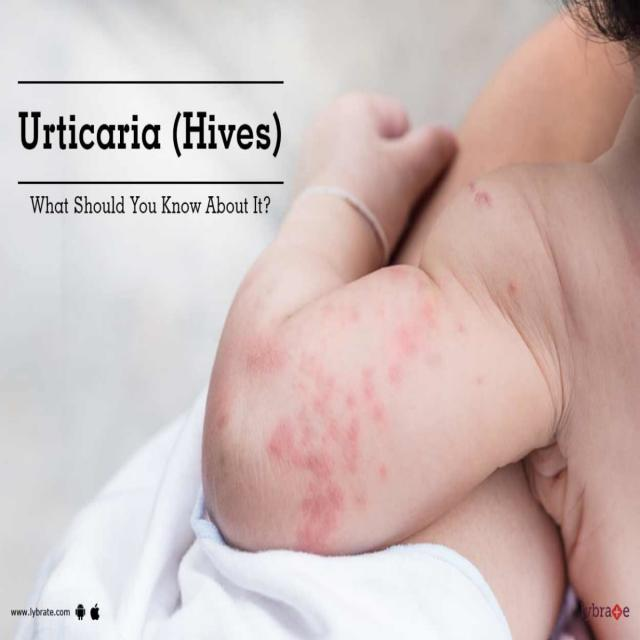hives: (251, 279, 463, 548), (444, 178, 538, 333)
